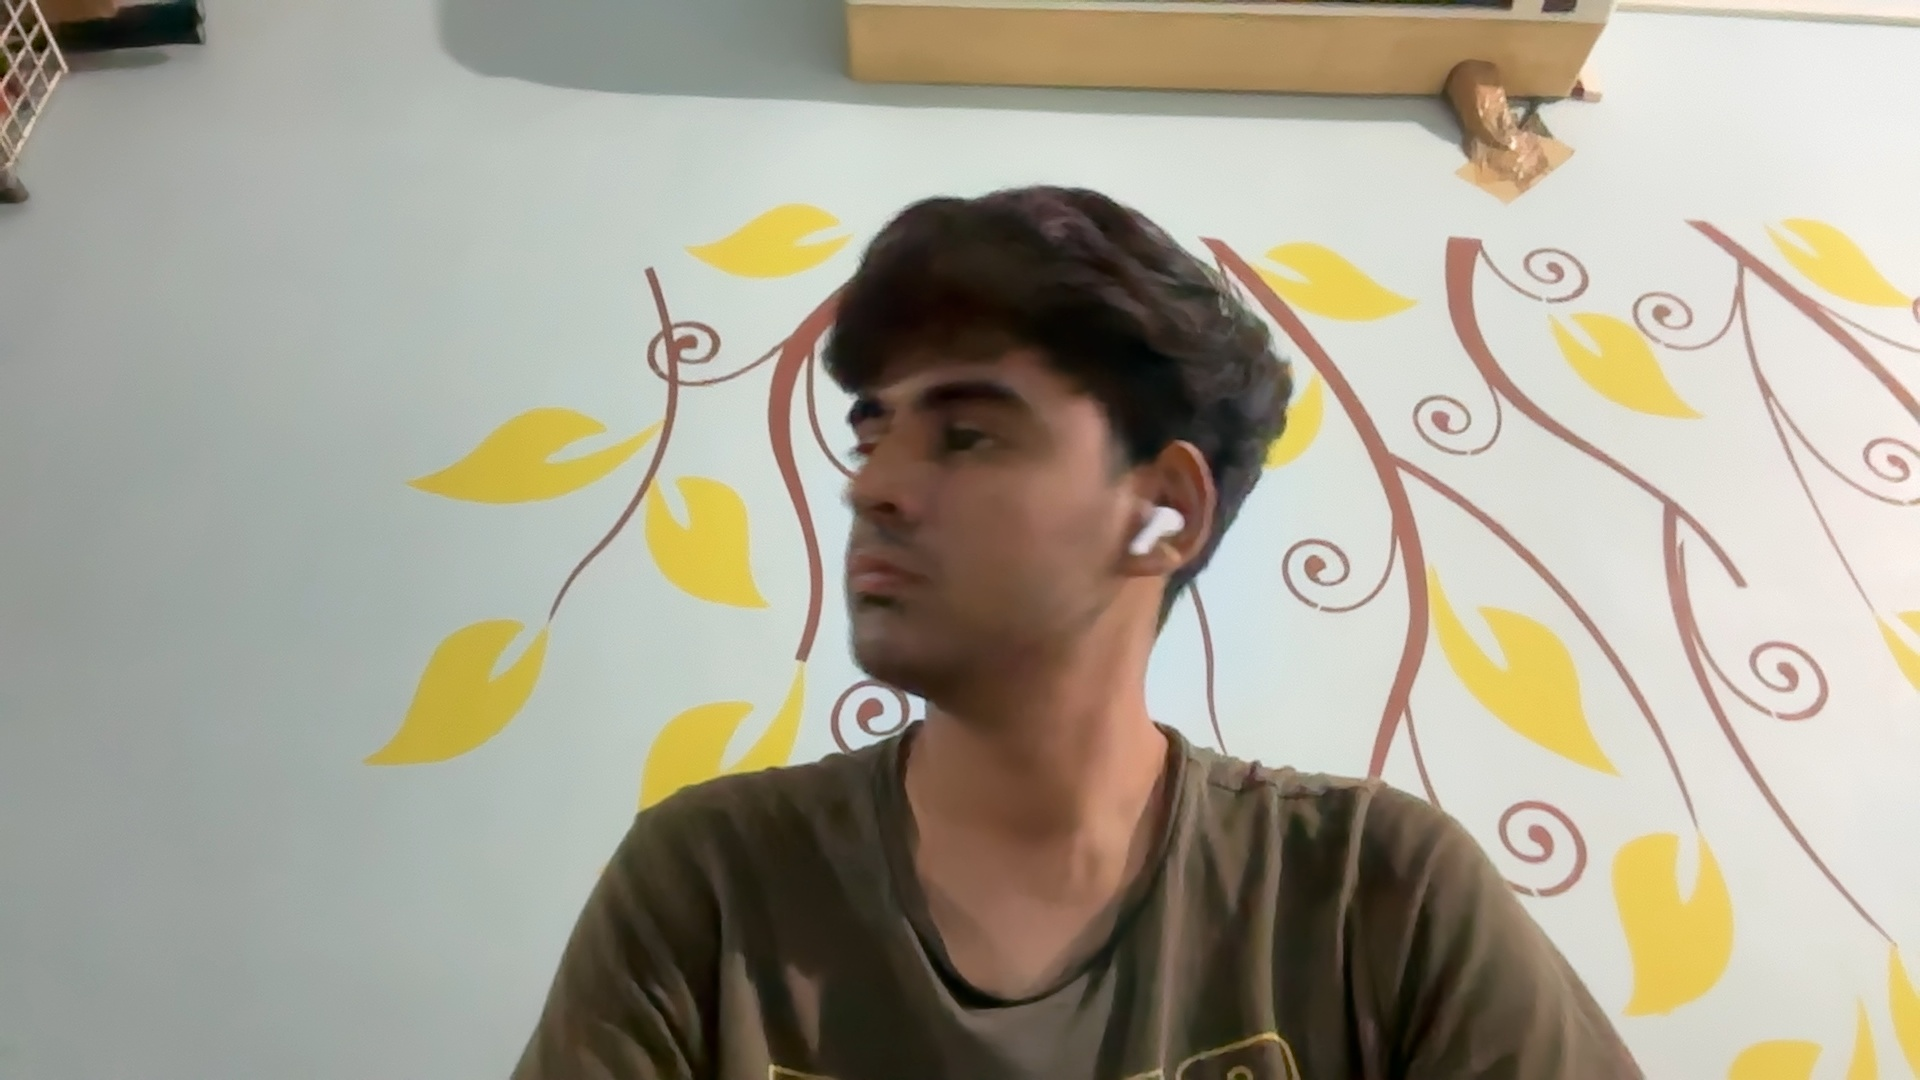No Mask: (825, 475, 1100, 686)
